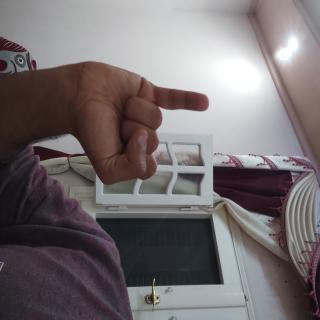MEEM: (42, 141, 141, 320)
